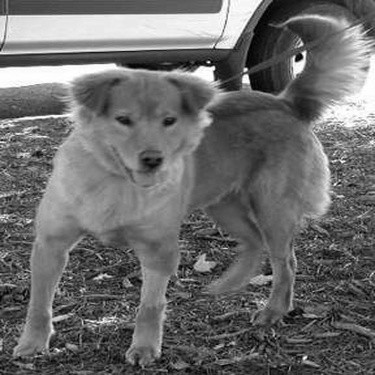dog: (1, 9, 366, 370)
